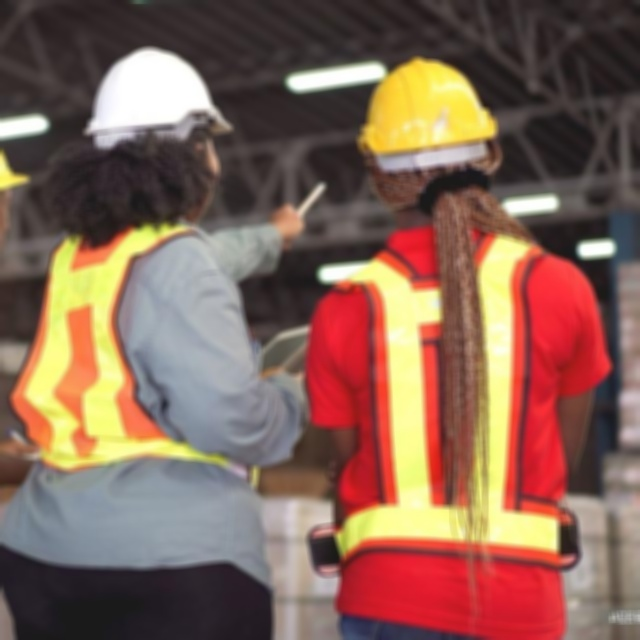Con_Casco: (88, 44, 232, 222), (358, 58, 495, 216)
Con_Chaleco: (328, 233, 573, 567), (18, 221, 242, 477)
